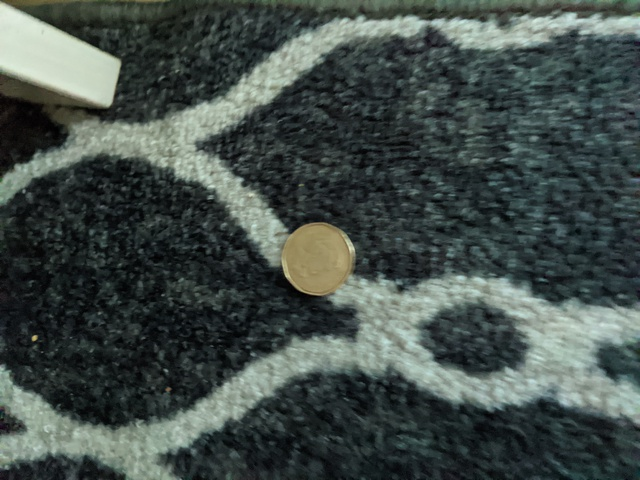loonie: (270, 209, 356, 302)
